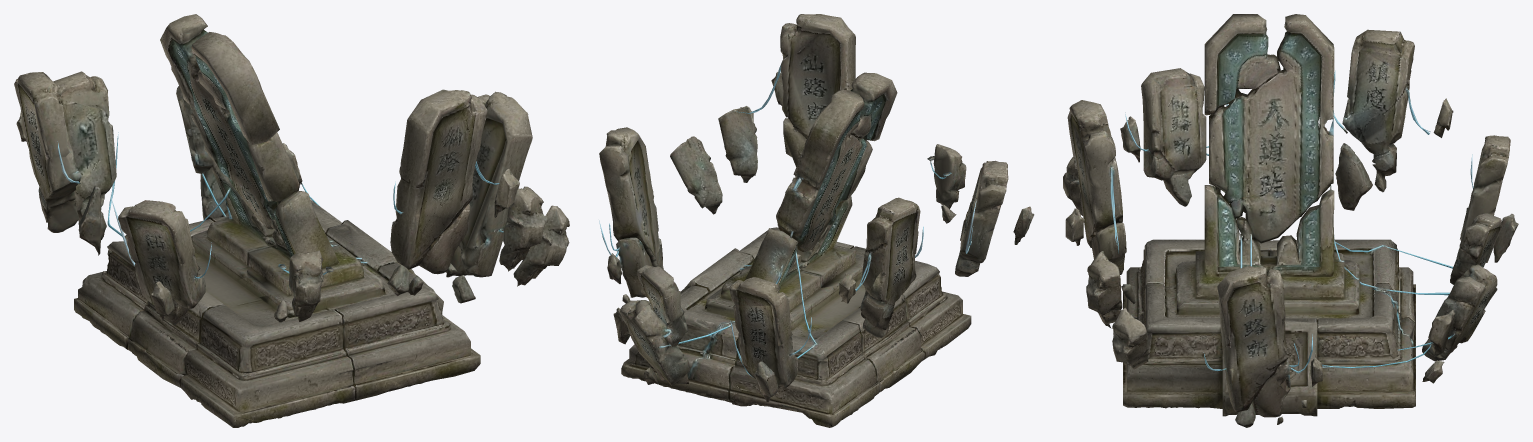
Rendered from duanbei.glb.
3 views of the same model, side by side, from view 1: azimuth 30°, elevation 25°; view 2: azimuth 150°, elevation 25°; view 3: azimuth 270°, elevation 25° (orthographic). The views are drawn at different scales.
Visible parts, largest first — view 1: tripo_node_8623d17a-aa2c-455e-90c2-85b9ac7d0e67; view 2: tripo_node_8623d17a-aa2c-455e-90c2-85b9ac7d0e67; view 3: tripo_node_8623d17a-aa2c-455e-90c2-85b9ac7d0e67.
Part boxes in pixels (bbox=[...]): tripo_node_8623d17a-aa2c-455e-90c2-85b9ac7d0e67: bbox=[14, 14, 569, 427]; tripo_node_8623d17a-aa2c-455e-90c2-85b9ac7d0e67: bbox=[599, 14, 1034, 427]; tripo_node_8623d17a-aa2c-455e-90c2-85b9ac7d0e67: bbox=[1063, 14, 1518, 427].
Bounding box in the file's own units: 0.998 × 0.7363 × 0.9941.
Materials: 1 (1 with a texture image).
